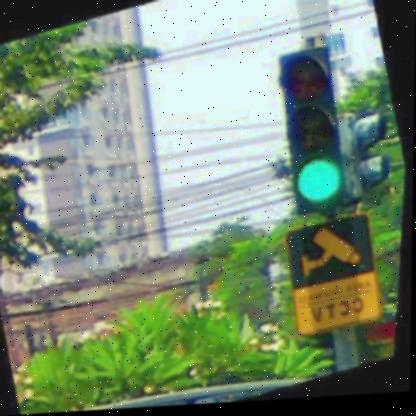Traffic Light -Green-: (259, 42, 369, 221)
